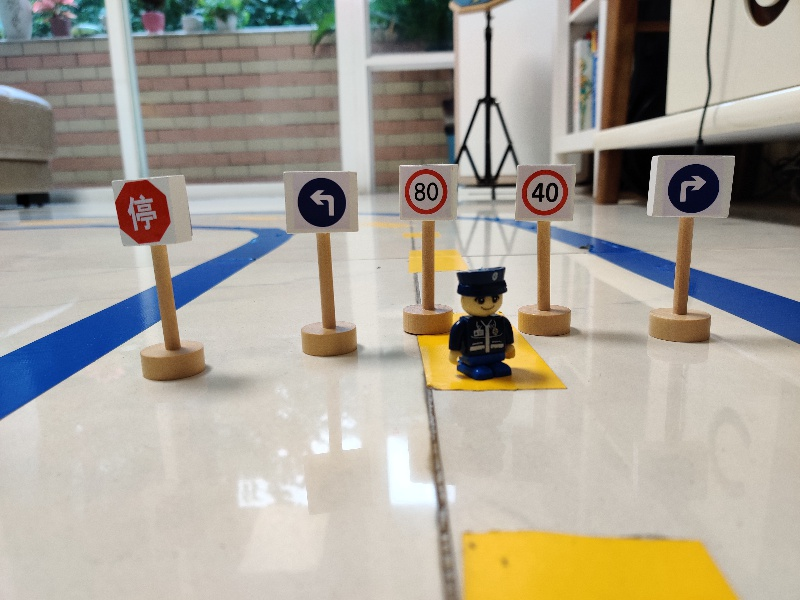limit_40: (509, 161, 581, 223)
limit_80: (393, 161, 461, 222)
person: (445, 261, 523, 382)
stop: (106, 174, 197, 248)
turn_left: (280, 167, 361, 234)
turn_right: (645, 153, 737, 221)
